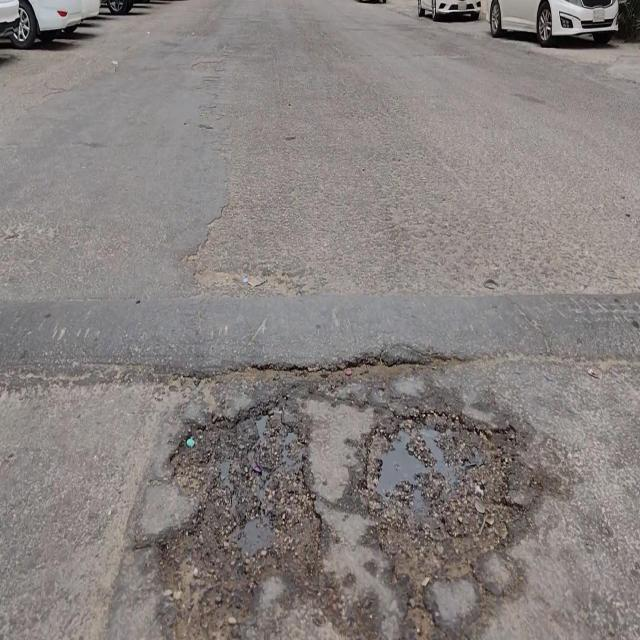Pothole: (158, 391, 321, 640), (363, 418, 516, 588)
